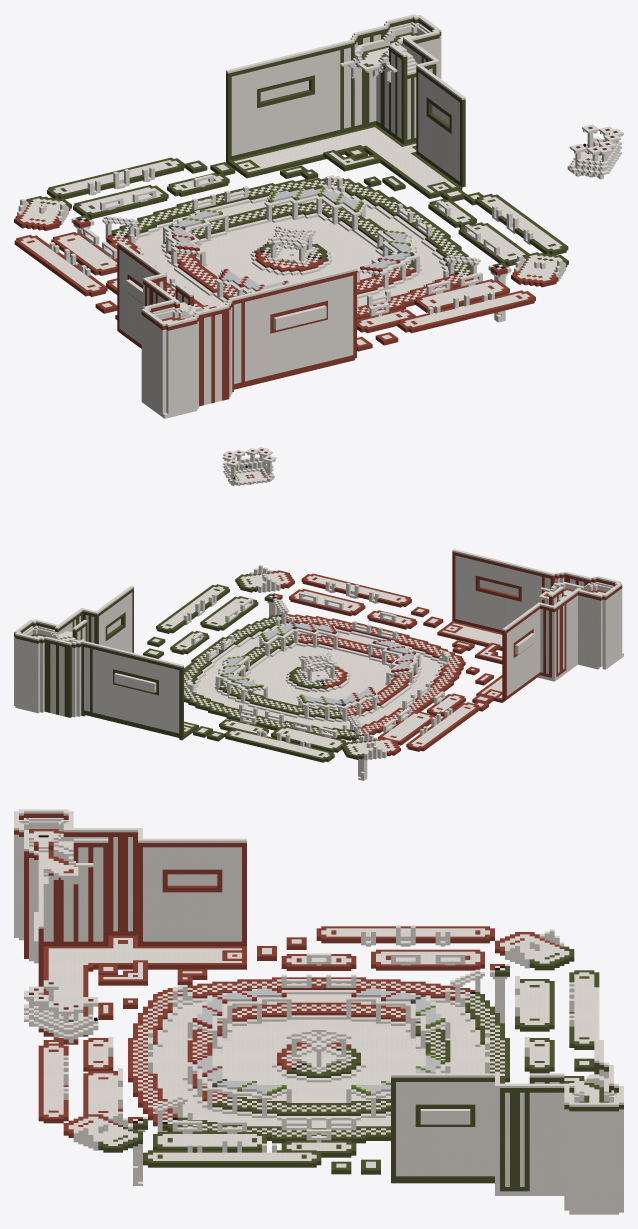
File: minecraft.obj
3 views of the same model, one above another, from view 1: azimuth 30°, elevation 25°; view 2: azimuth 150°, elevation 25°; view 3: azimuth 270°, elevation 25° (orthographic). The views are drawn at different scales.
Bounding box in the file's own units: 1410 × 500 × 1230.
